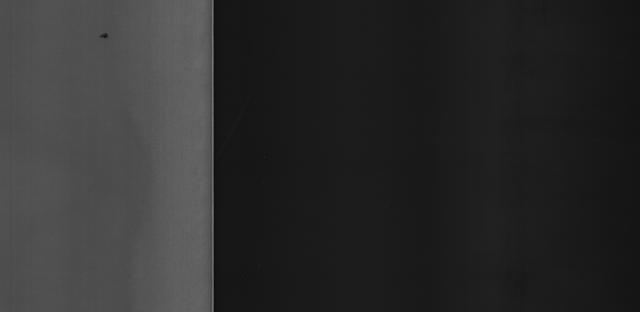inclusion: (91, 27, 121, 45)
